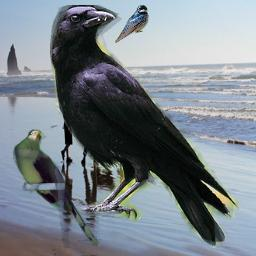Crow: (50, 5, 239, 248)
Cuckoo: (13, 129, 105, 248)
Swallow: (115, 4, 149, 44)
